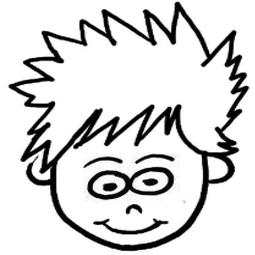ear: (201, 154, 236, 189), (19, 155, 51, 190)
eyebrow: (79, 168, 129, 202), (130, 164, 178, 197), (131, 151, 179, 165), (84, 154, 127, 168)
mouth: (88, 215, 171, 237)
nose: (113, 203, 153, 216)
